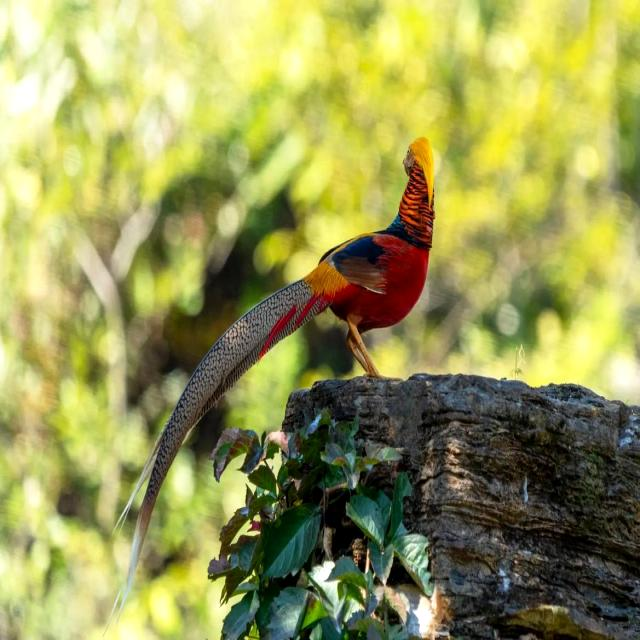Chrysolophus pictus feather: (101, 280, 326, 640)
